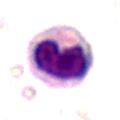monocyte: (21, 25, 96, 92)
